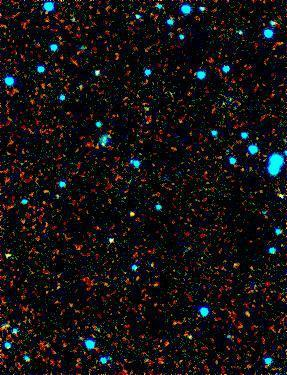star: (115, 199, 145, 229)
